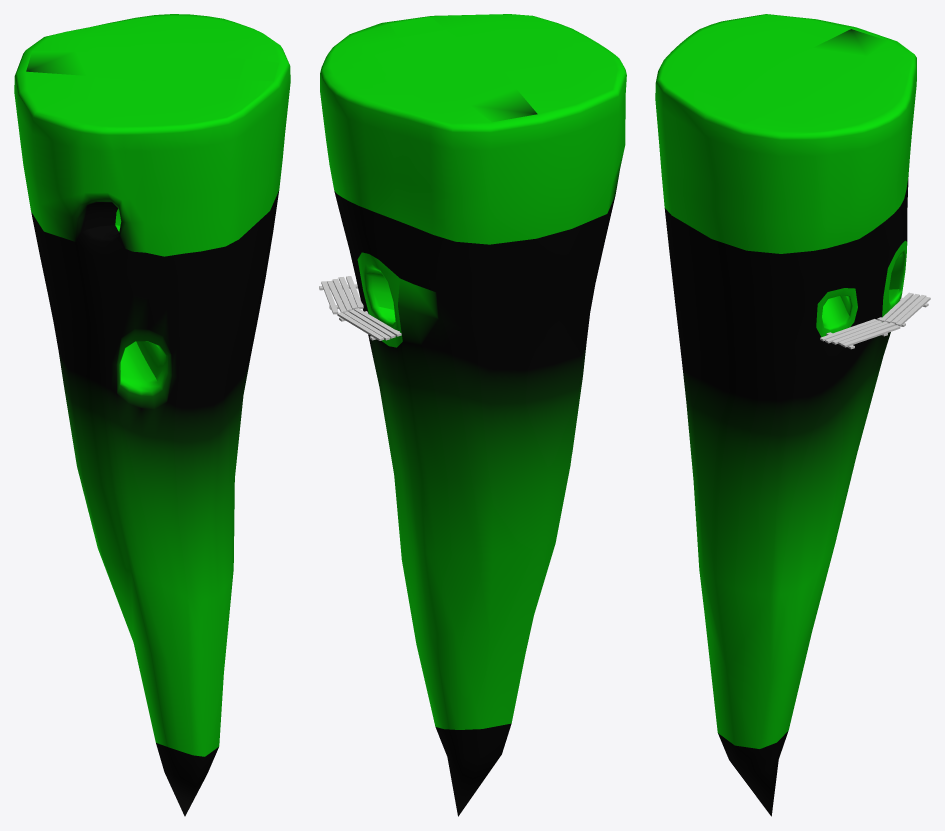
The model's file is Tunnel island.fbx.
3 views of the same model, side by side, from view 1: azimuth 30°, elevation 25°; view 2: azimuth 150°, elevation 25°; view 3: azimuth 270°, elevation 25° (orthographic). The views are drawn at different scales.
Visible parts, largest first — view 1: polySurface3; view 2: polySurface3; view 3: polySurface3.
Boxes of the visible parts, x1,y1,x2,y2 form: polySurface3: [14, 14, 290, 816]; polySurface3: [320, 14, 626, 816]; polySurface3: [655, 14, 916, 816].
Size of the model in its own units: 50.31 by 139 by 47.39.
